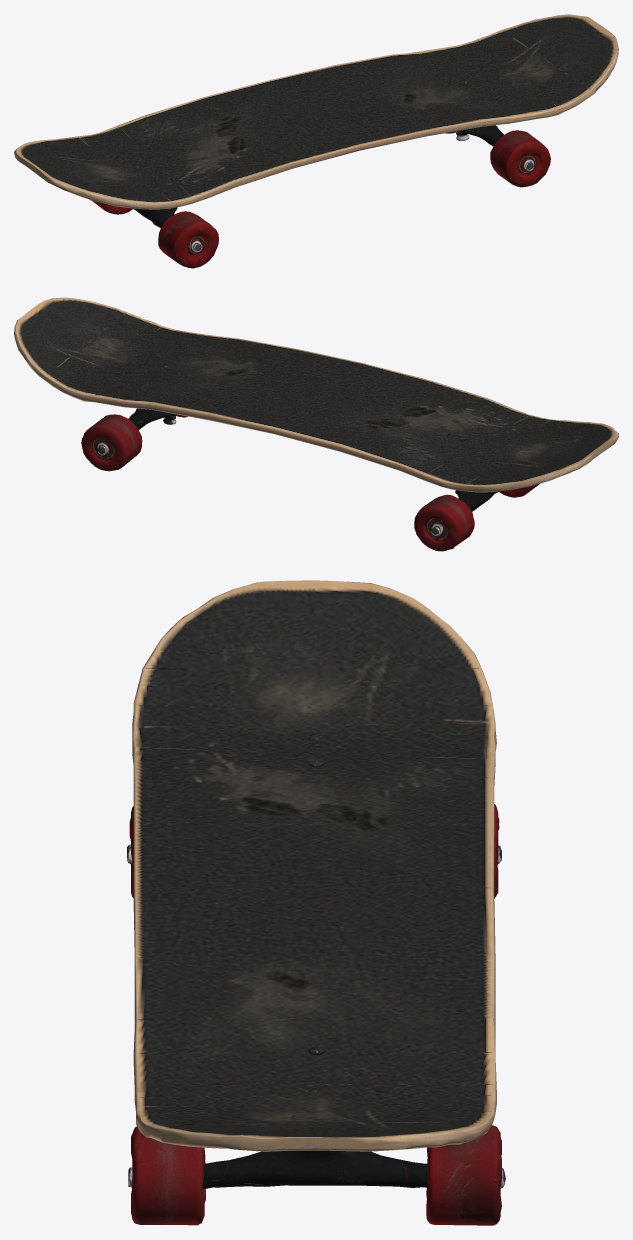
Rendered from Meshy_AI_a_skateboard_0915212313_texture.glb.
The picture shows the model from 3 angles, top to bottom: view 1: azimuth 30°, elevation 25°; view 2: azimuth 150°, elevation 25°; view 3: azimuth 270°, elevation 25°; orthographic projection. The views are drawn at different scales.
Size of the model in its own units: 1 by 0.168 by 0.2881.
1 material, 1 textured.
